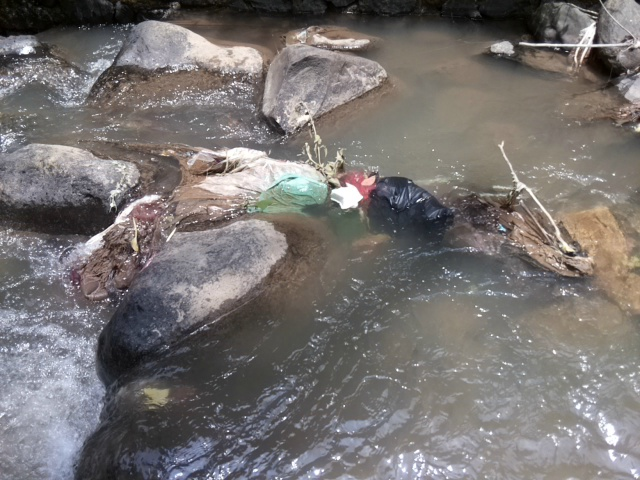Sampah_Plastik: (85, 147, 334, 282), (367, 170, 454, 238)
Sampah_Styrofoam: (329, 179, 365, 210)
